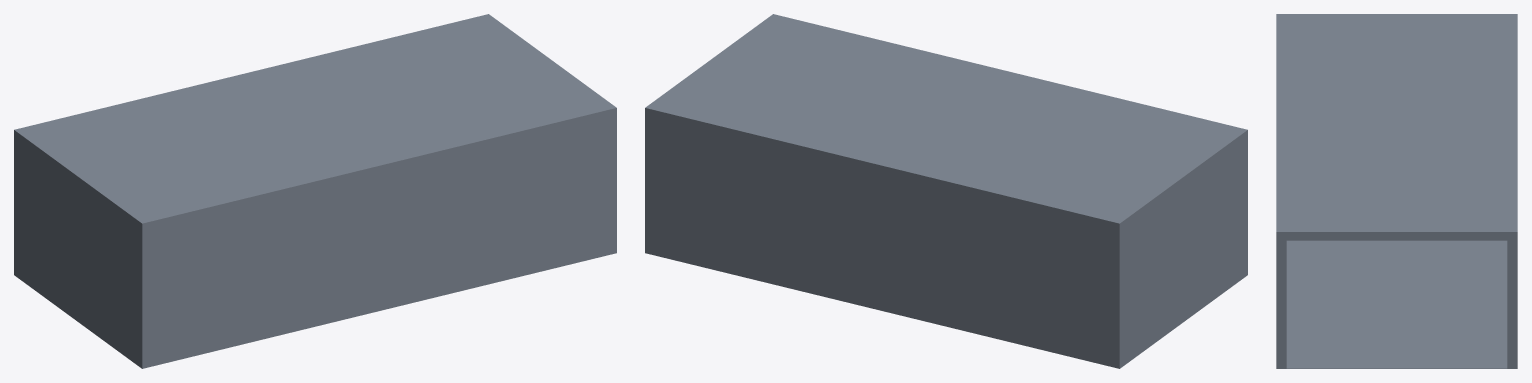
File: Arena_entry.fbx
3 views of the same model, side by side, from view 1: azimuth 30°, elevation 25°; view 2: azimuth 150°, elevation 25°; view 3: azimuth 270°, elevation 25° (orthographic). The views are drawn at different scales.
Parts seen in each view (by area): view 1: Entry; view 2: Entry; view 3: Entry.
Boxes of the visible parts, x1,y1,x2,y2 form: Entry: (14, 14, 616, 368); Entry: (645, 14, 1247, 368); Entry: (1276, 14, 1517, 368).
Size of the model in its own units: 729 by 213 by 341.
